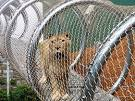lion: (33, 34, 74, 101)
